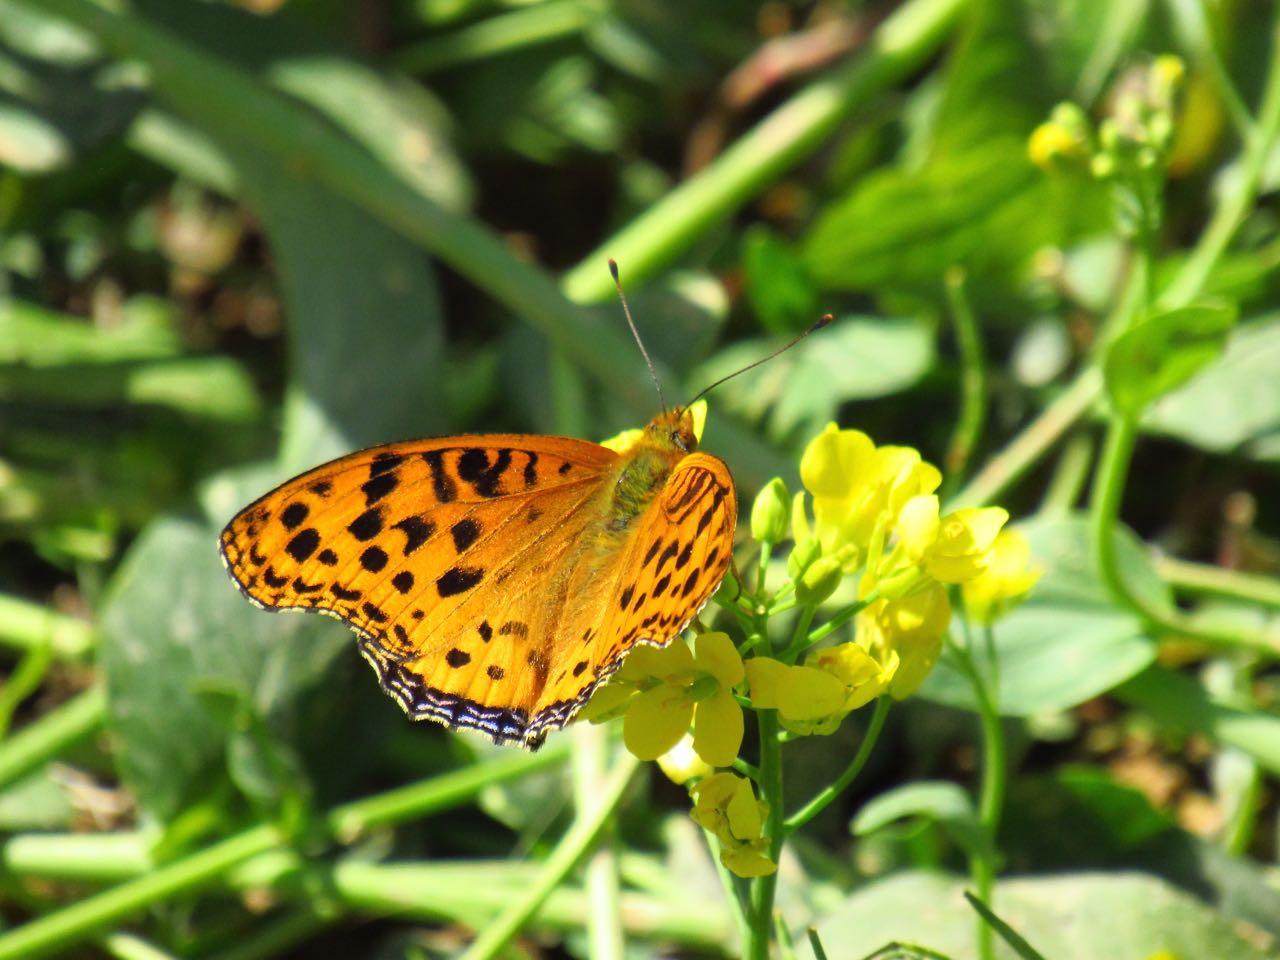Argyreus hyperbius: (212, 247, 840, 757)
butterfly: (214, 249, 842, 759)
